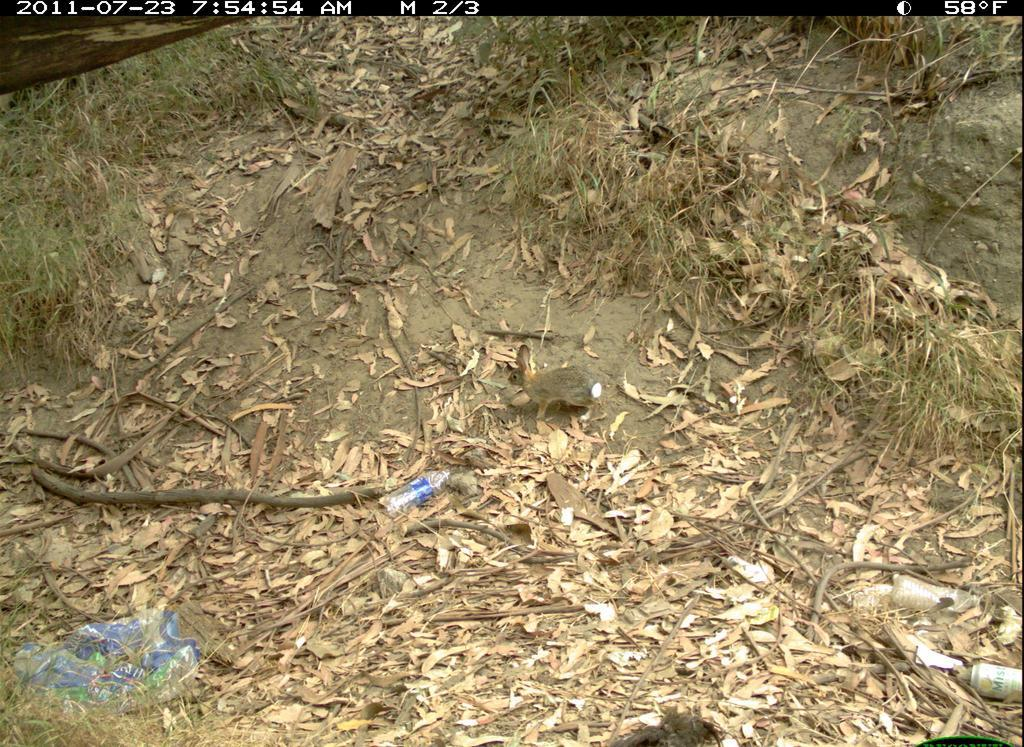rabbit: (498, 331, 616, 427)
